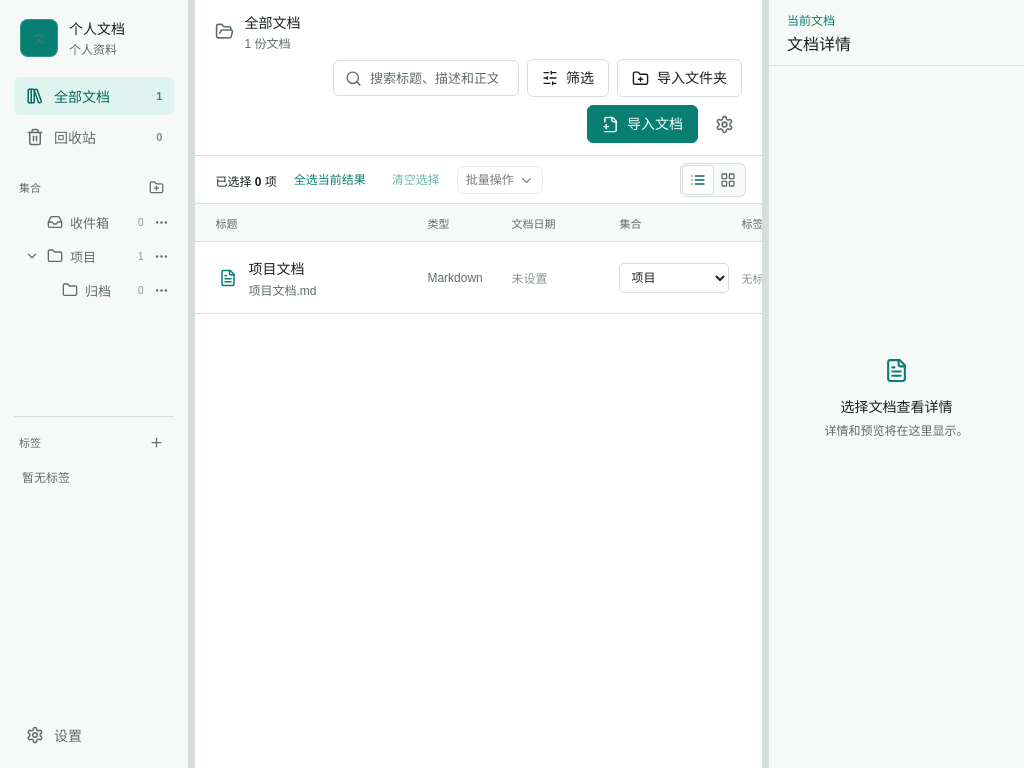
Test case: 集合管理流程 › shows the document count and moves documents to the inbox on deletion
Expected: the text "项目文档" is shown, [248,260,304,276]
Click the button named "管理 项目".
click(161, 256)  # box [148,243,174,269]
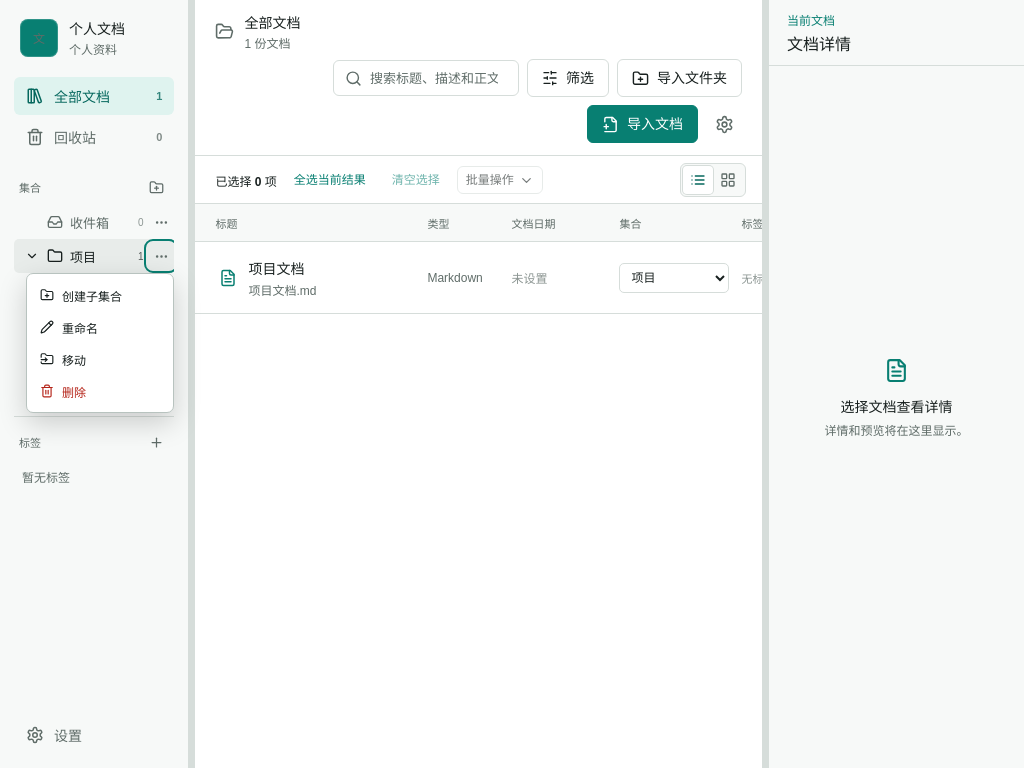
Click the menu item "删除".
click(100, 391)  # box [32,375,168,407]
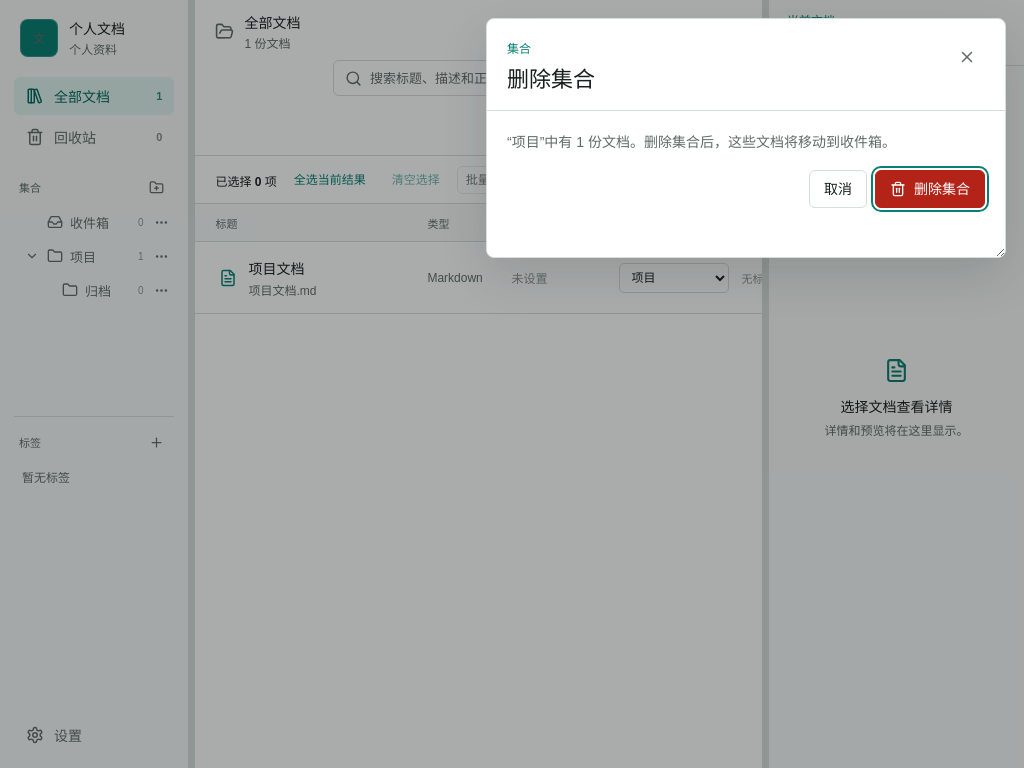
Now the dialog "删除集合" shows "“项目”中有 1 份文档。删除集合后，这些文档将移动到收件箱。", box [507,134,896,150]
Click the button "删除集合".
click(930, 189)  # box [875,170,985,208]
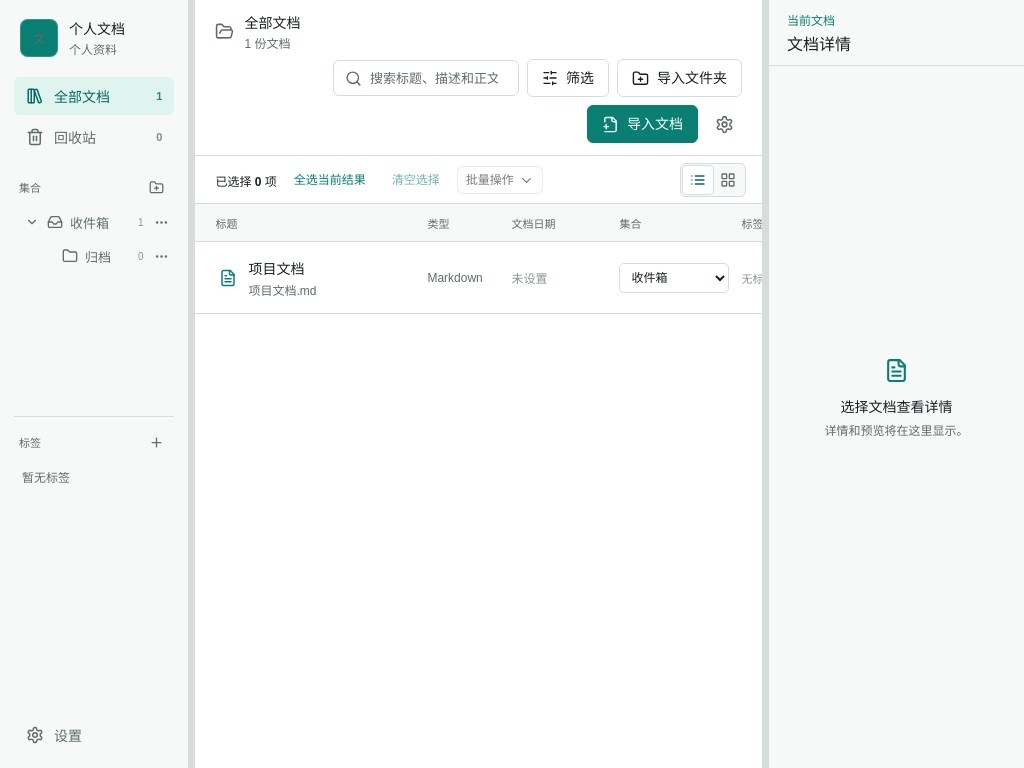
Now the button "管理 项目" is gone
Now the button "收件箱 1" is shown, box [43,206,147,238]
